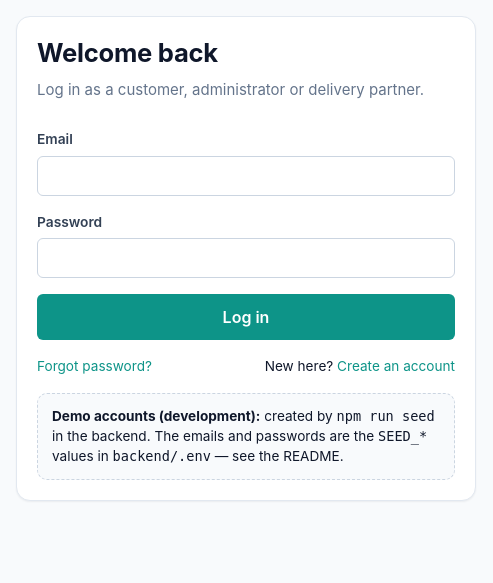
Scenario: Login page › FE-09 shows the server error message for a wrong password
Type "arun@example.com" into the field with test id "login-email" at (246, 176), box [37,156,455,196]
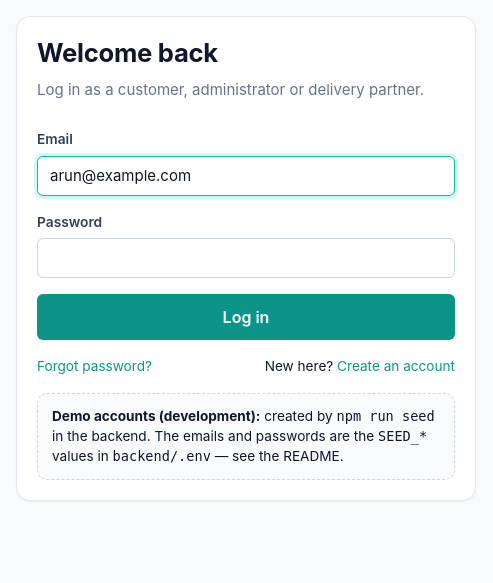
Type "Wrong@123" into the password field with test id "login-password" at (246, 258), box [37,238,455,278]
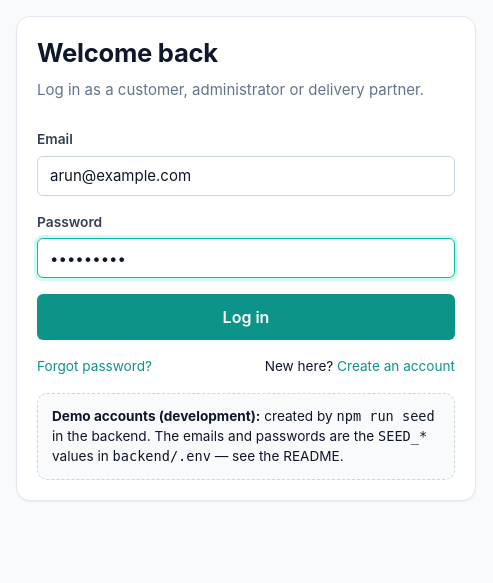
Click the button with test id "login-submit" at (246, 317), box [37,294,455,340]
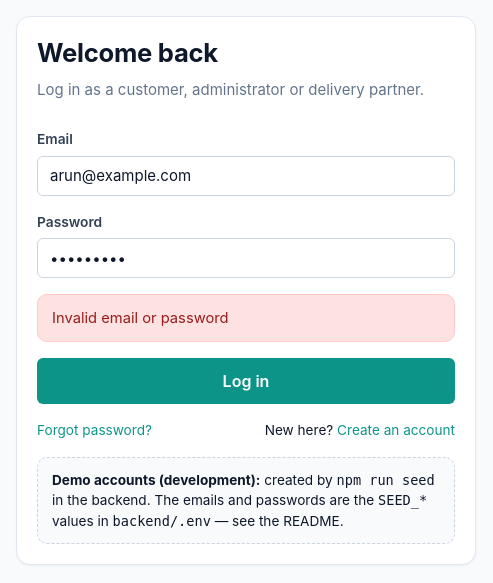
Now the text "Invalid email or password" is shown, box [52,307,229,329]
